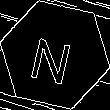N_N: (30, 26, 80, 84)
